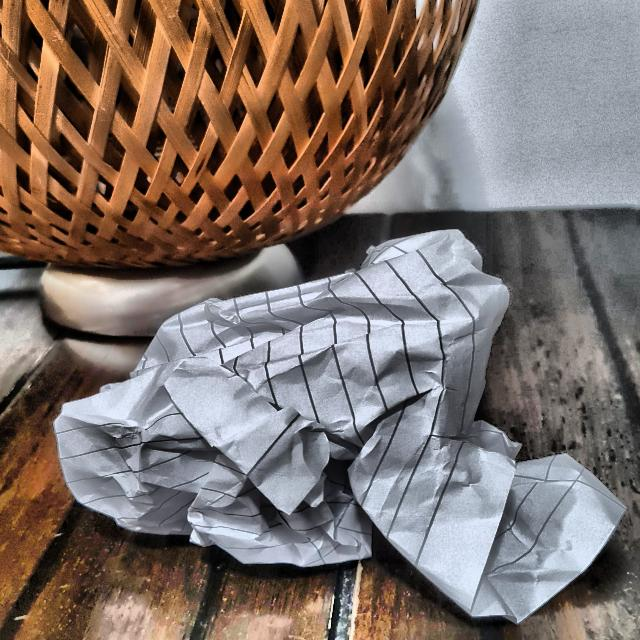paper: (37, 211, 617, 624)
